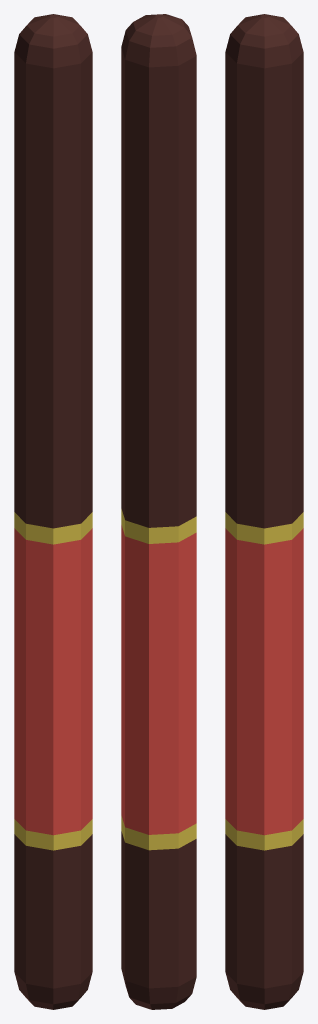
Rendered from Drum Stick.fbx.
3 views of the same model, side by side, from view 1: azimuth 90°, elevation 25°; view 2: azimuth 210°, elevation 25°; view 3: azimuth 270°, elevation 25° (orthographic).
Parts seen in each view (by area): view 1: Drum Stick; view 2: Drum Stick; view 3: Drum Stick.
Boxes of the visible parts, x1=… form: Drum Stick: x1=14, y1=14, x2=92, y2=1009; Drum Stick: x1=121, y1=14, x2=196, y2=1009; Drum Stick: x1=225, y1=14, x2=303, y2=1009.
Bounding box in the file's own units: 20 × 280 × 20.
